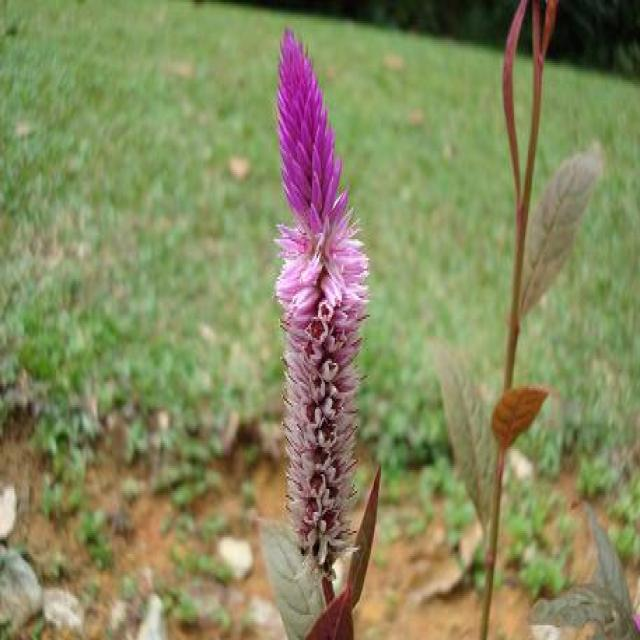Celosia-Argentea: (270, 23, 370, 583)
